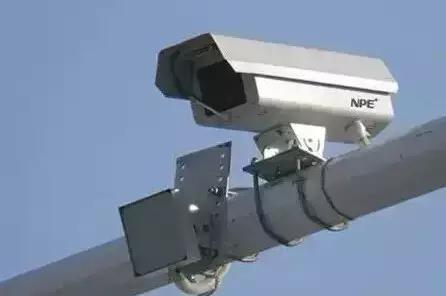camera: (151, 35, 398, 176)
